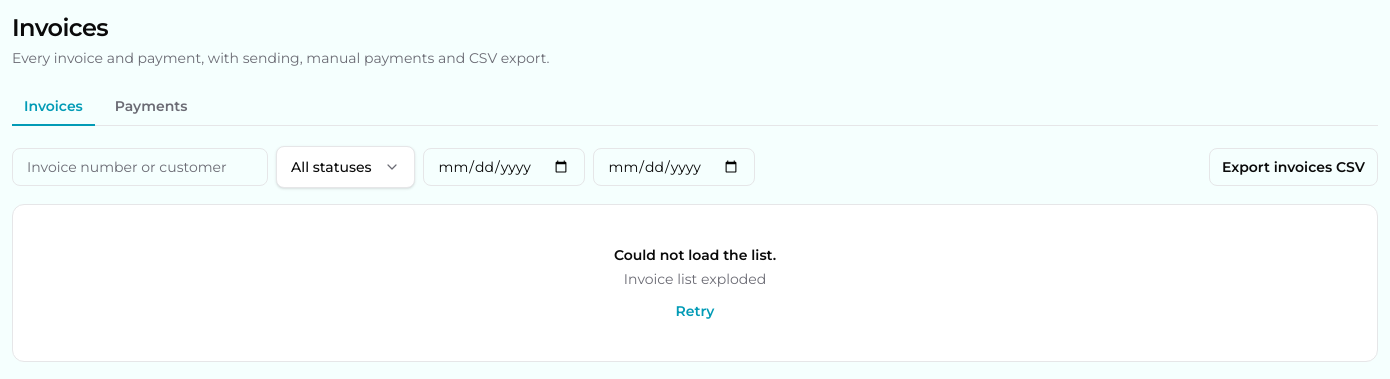
Test: InvoicesScreen (GAP-028) › shows empty, error + retry, and the read-only view
Check: the text "Invoice list exploded" is shown, box [624,270,766,288]
Click the button "Retry".
click(695, 311)  # box [676,301,714,321]
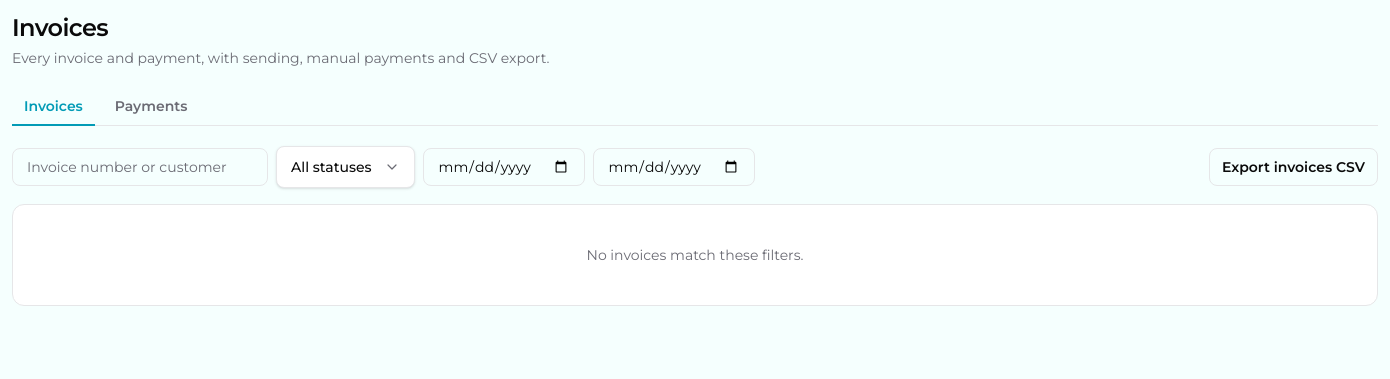
Check: the text "No invoices match these filters." is shown, box [586,246,804,264]
